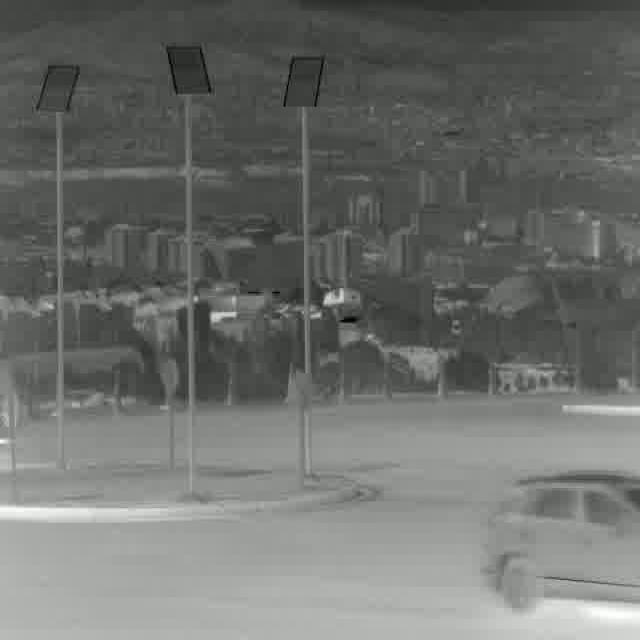Car: (485, 472, 640, 615)
